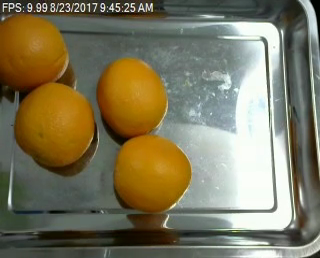Orange: (15, 82, 95, 165), (112, 136, 191, 212), (96, 57, 167, 138), (0, 12, 69, 89)
